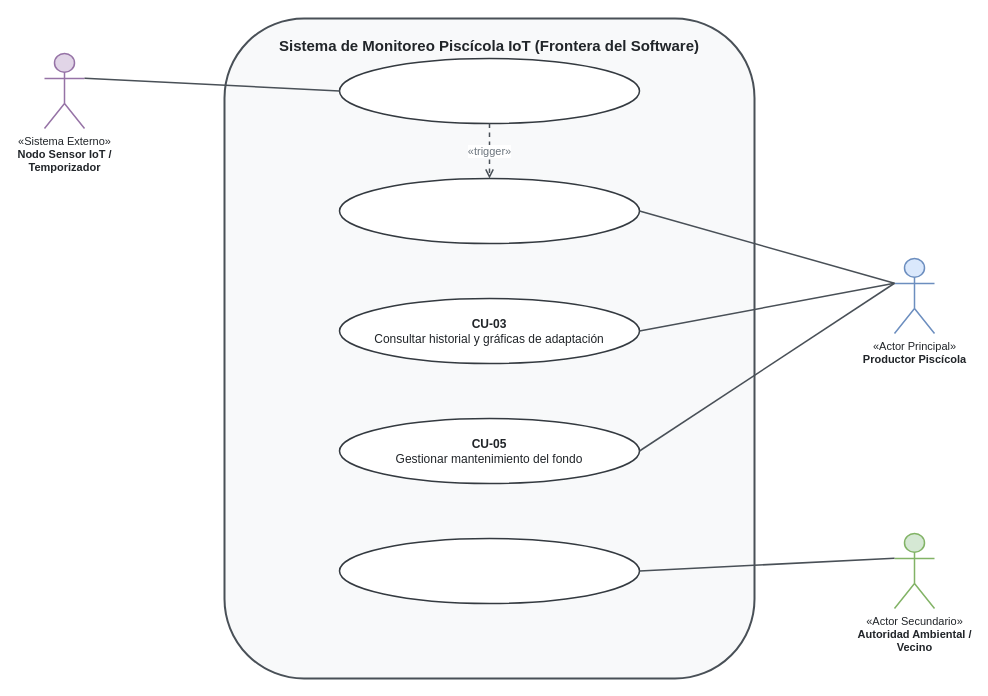
Image size: 988x696. Some labels were removed from this diagram. Each missing label, with the centre of its shape:
"CU-01 Registrar métricas físico-químicas" goes at point (489, 90).
"CU-02 Emitir alertas tempranas" goes at point (489, 210).
"CU-04 Consultar Portal Público Ambiental" goes at point (489, 570).
